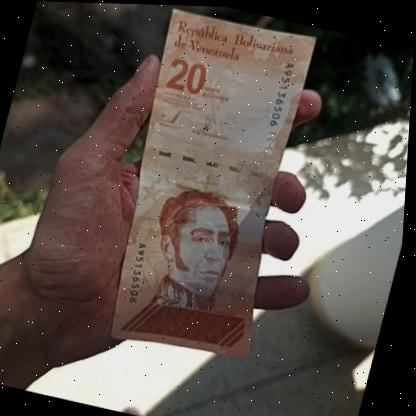twenty-front-vef: (91, 4, 327, 366)
